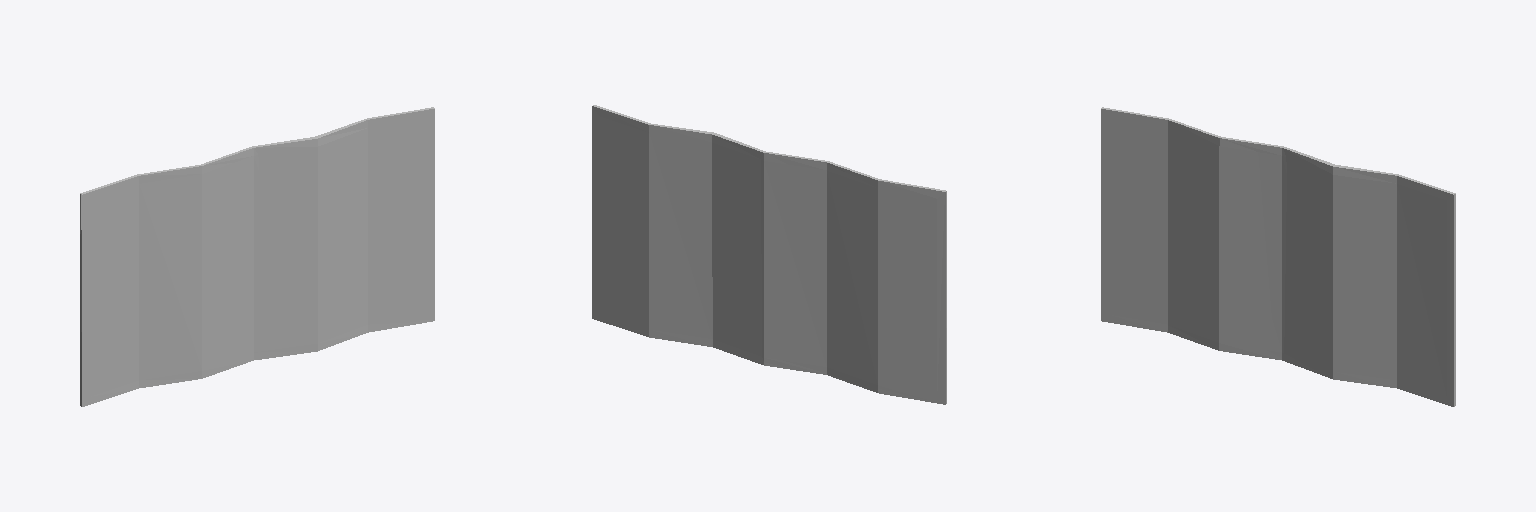
The model's file is byoubu_story01.obj.
3 views of the same model, side by side, from view 1: azimuth 30°, elevation 25°; view 2: azimuth 150°, elevation 25°; view 3: azimuth 330°, elevation 25° (orthographic).
Visible parts, largest first — view 1: Cube; view 2: Cube; view 3: Cube.
Part boxes in pixels (x1,y1,x2,y2): Cube: (80, 107, 434, 406); Cube: (592, 105, 946, 404); Cube: (1101, 107, 1455, 406).
Size of the model in its own units: 6.96 by 4 by 0.294.